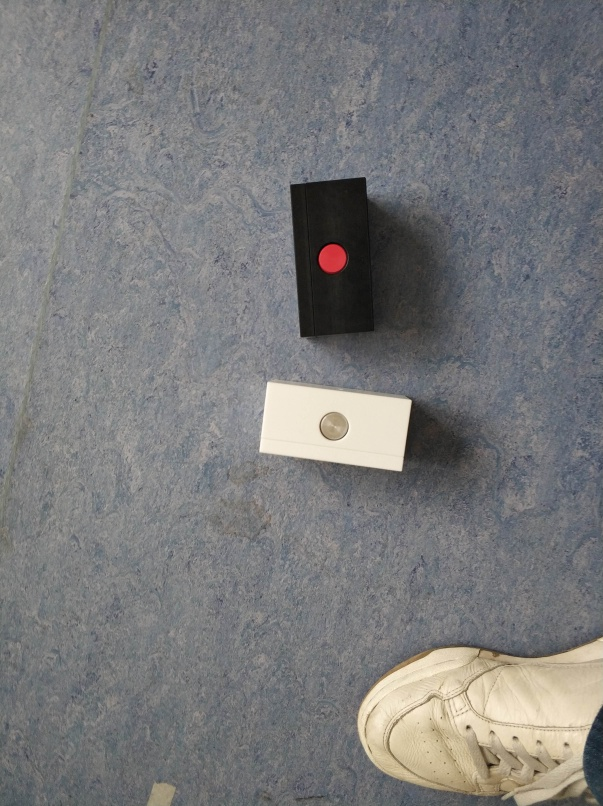black+black+red: (288, 175, 378, 339)
white+white+silver: (256, 375, 416, 474)
